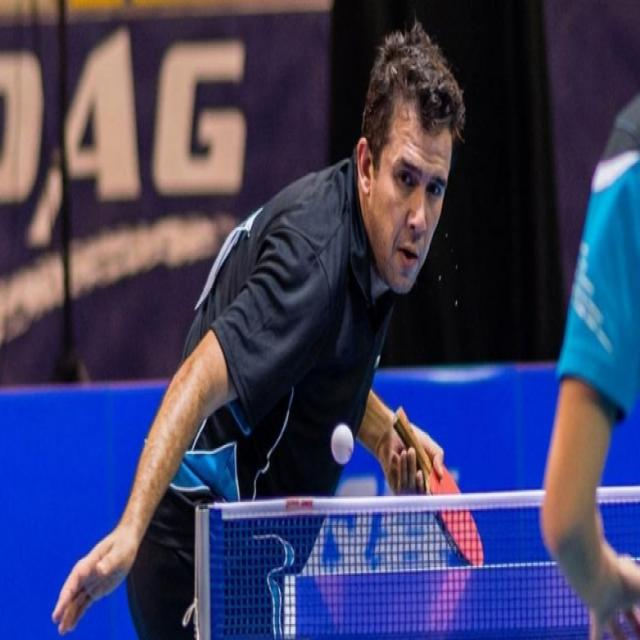TT Net: (193, 481, 639, 639)
TT Racket: (416, 448, 492, 582)
TT Table: (285, 555, 639, 639)
